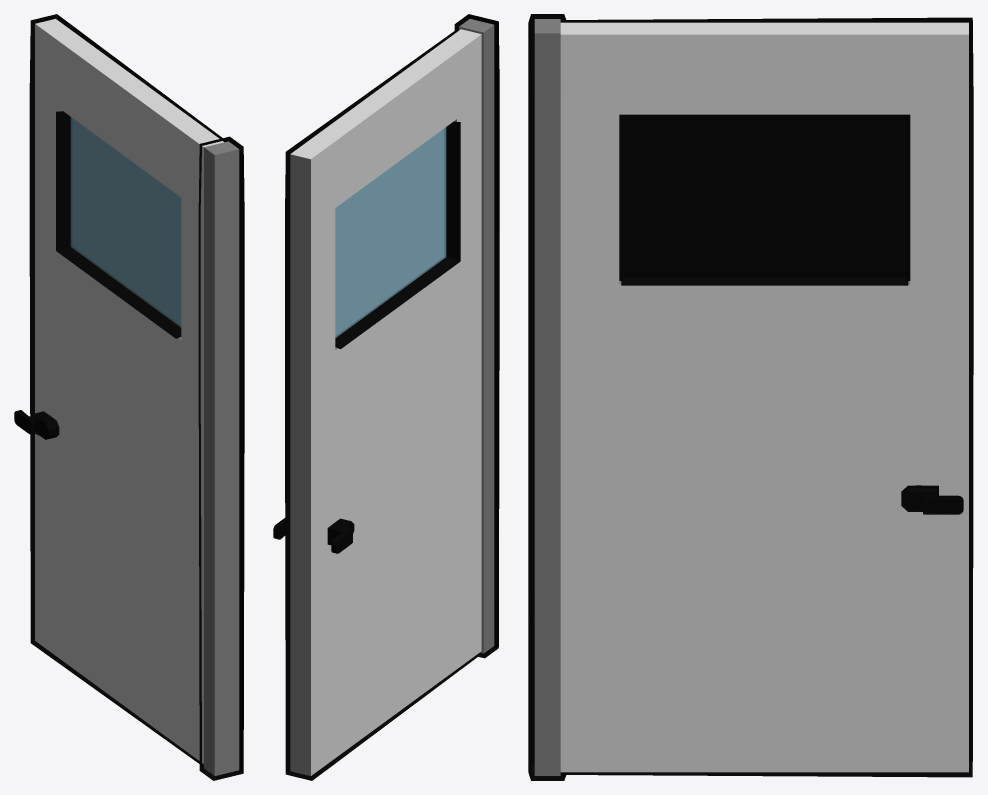
Rendered from Door.fbx.
3 views of the same model, side by side, from view 1: azimuth 30°, elevation 25°; view 2: azimuth 150°, elevation 25°; view 3: azimuth 270°, elevation 25° (orthographic). The views are drawn at different scales.
Visible parts, largest first — view 1: Cube.040; view 2: Cube.040; view 3: Cube.040.
Part boxes in pixels (<box>): Cube.040: <box>14,14,244,780</box>; Cube.040: <box>273,14,499,780</box>; Cube.040: <box>528,14,973,780</box>.
Size of the model in its own units: 30.38 by 288 by 155.
